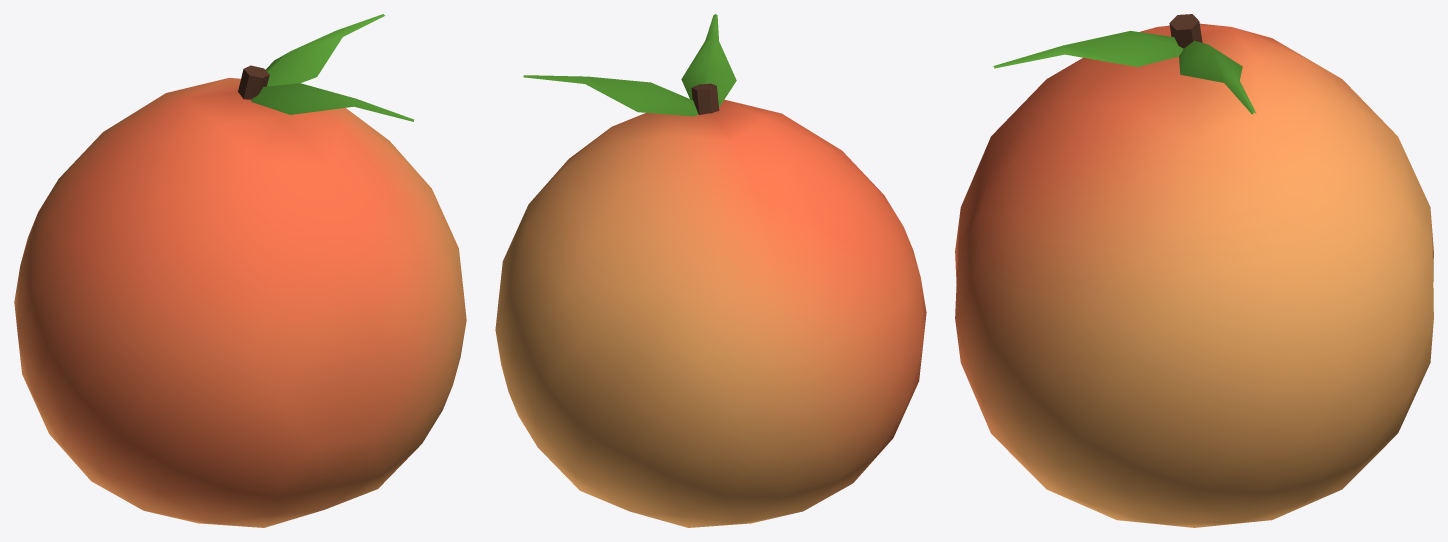
Rendered from peach.glb.
3 renders of one model, left to right at view 1: azimuth 30°, elevation 25°; view 2: azimuth 150°, elevation 25°; view 3: azimuth 270°, elevation 25°, orthographic. The views are drawn at different scales.
Visible parts, largest first — view 1: Peach Peach, Peach Leaves, Peach Dark wood; view 2: Peach Peach, Peach Leaves, Peach Dark wood; view 3: Peach Peach, Peach Leaves, Peach Dark wood.
Boxes of the visible parts, x1,y1,x2,y2 form: Peach Peach: [14, 78, 466, 527]; Peach Leaves: [251, 14, 414, 121]; Peach Dark wood: [238, 65, 269, 99]; Peach Peach: [495, 99, 926, 527]; Peach Leaves: [523, 14, 736, 116]; Peach Dark wood: [691, 83, 719, 114]; Peach Peach: [955, 23, 1433, 527]; Peach Leaves: [993, 31, 1256, 114]; Peach Dark wood: [1169, 14, 1202, 48].
Size of the model in its own units: 0.204 by 0.2103 by 0.1902.
